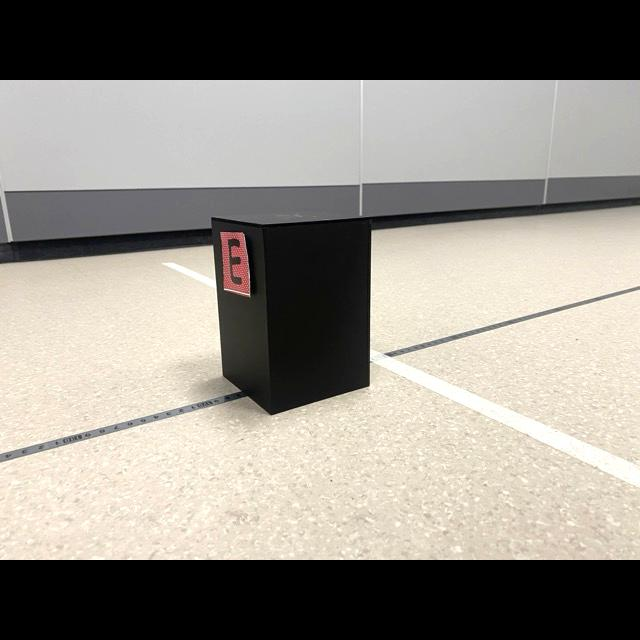E: (228, 239, 242, 284)
